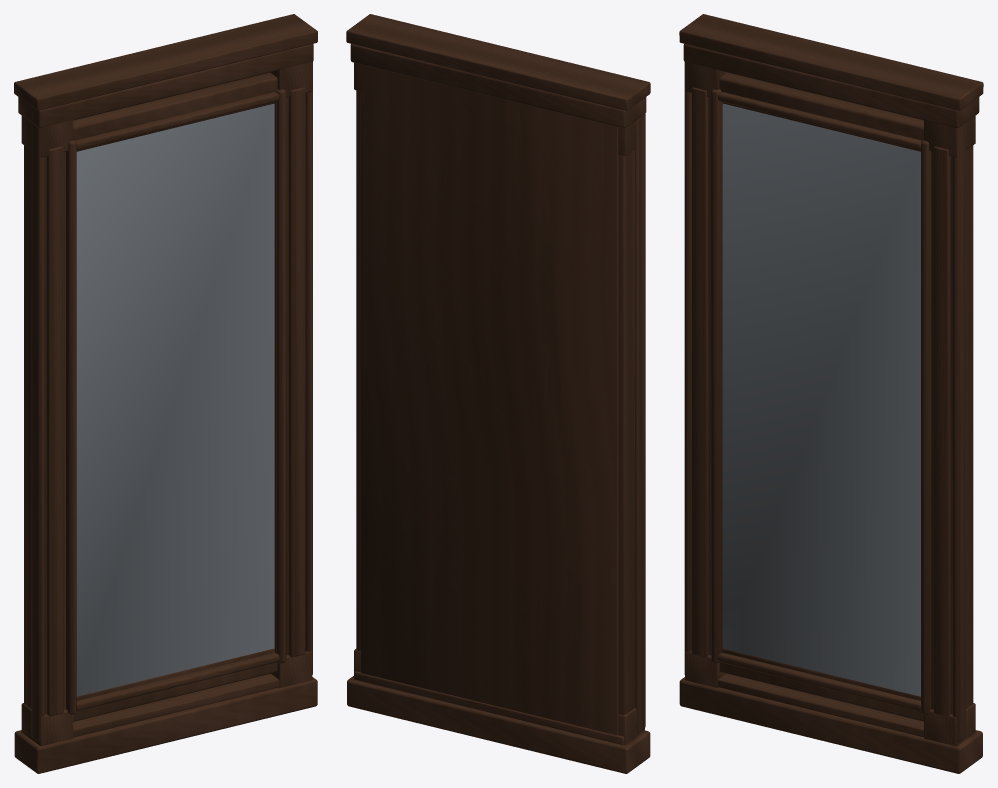
Rendered from victorian_full_length_mirror.glb.
3 renders of one model, left to right at view 1: azimuth 30°, elevation 25°; view 2: azimuth 150°, elevation 25°; view 3: azimuth 330°, elevation 25°, orthographic.
Parts seen in each view (by area): view 1: Neutral_Mirror_Surface, Victorian_Mirror_Frame; view 2: Victorian_Mirror_Frame; view 3: Neutral_Mirror_Surface, Victorian_Mirror_Frame.
Part boxes in pixels (x1,y1,x2,y2): Neutral_Mirror_Surface: (76,103,274,696); Victorian_Mirror_Frame: (14,14,317,773); Victorian_Mirror_Frame: (346,14,650,773); Neutral_Mirror_Surface: (722,103,920,696); Victorian_Mirror_Frame: (679,14,983,773).
Size of the model in its own units: 0.94 by 2.16 by 0.1438.
Materials: 2 (1 with a texture image).
